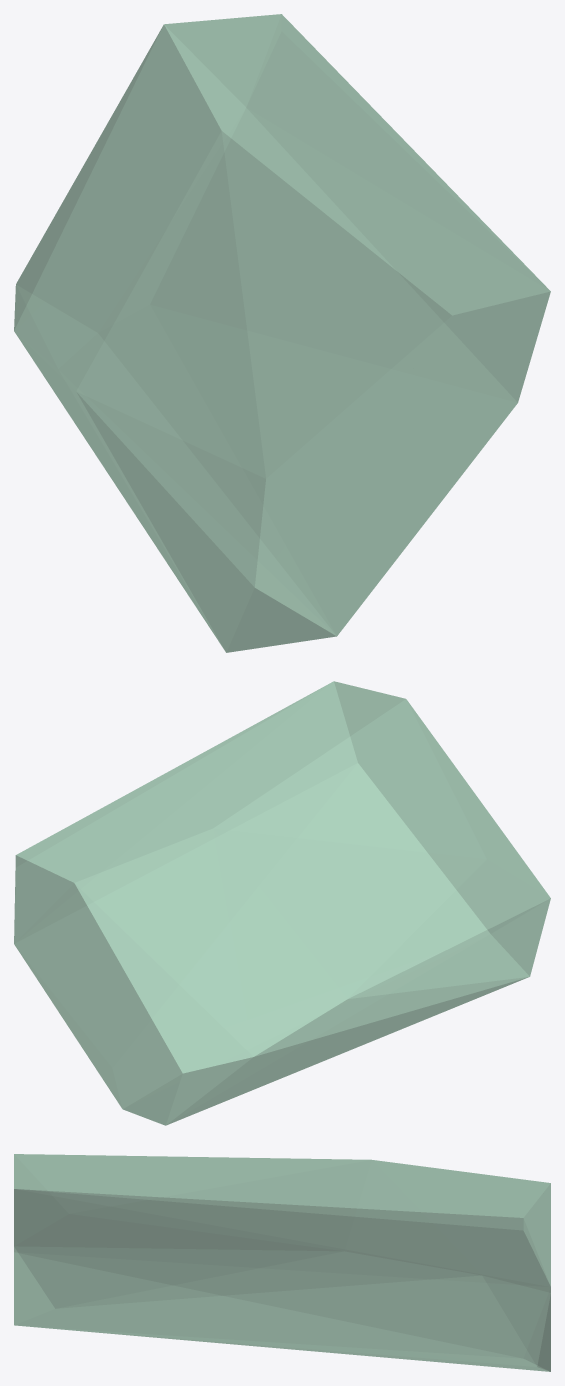
3 views of the same model, one above another, from view 1: azimuth 30°, elevation 25°; view 2: azimuth 150°, elevation 25°; view 3: azimuth 270°, elevation 25° (orthographic). The views are drawn at different scales.
Visible parts, largest first — view 1: Shape_IndexedFaceSet.018_Shape_IndexedFaceSet.9539; view 2: Shape_IndexedFaceSet.018_Shape_IndexedFaceSet.9539; view 3: Shape_IndexedFaceSet.018_Shape_IndexedFaceSet.9539.
Part boxes in pixels (<box>): Shape_IndexedFaceSet.018_Shape_IndexedFaceSet.9539: <box>14,14,550,652</box>; Shape_IndexedFaceSet.018_Shape_IndexedFaceSet.9539: <box>14,681,550,1125</box>; Shape_IndexedFaceSet.018_Shape_IndexedFaceSet.9539: <box>14,1154,550,1371</box>.
Size of the model in its own units: 0.1515 by 0.1186 by 0.2569.
